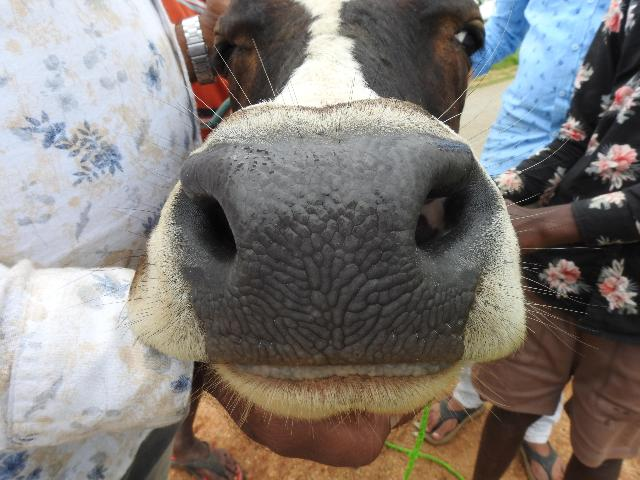Muzzle: (222, 146, 428, 372)
